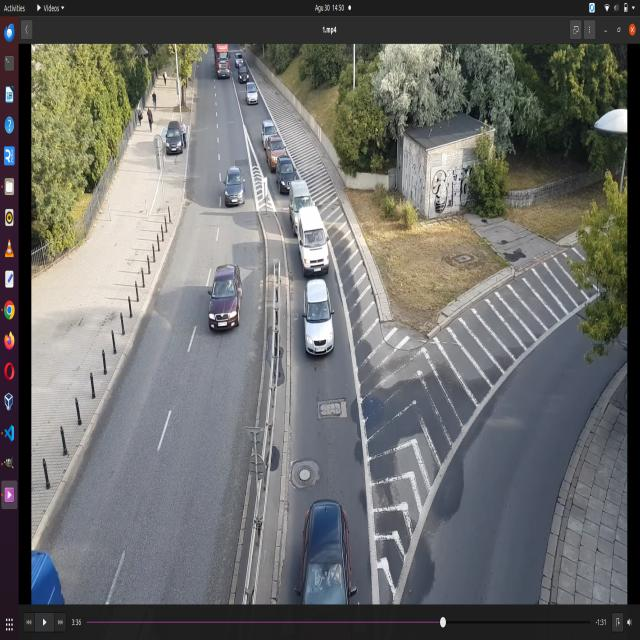person_with_seatbelt: (223, 278, 236, 296)
